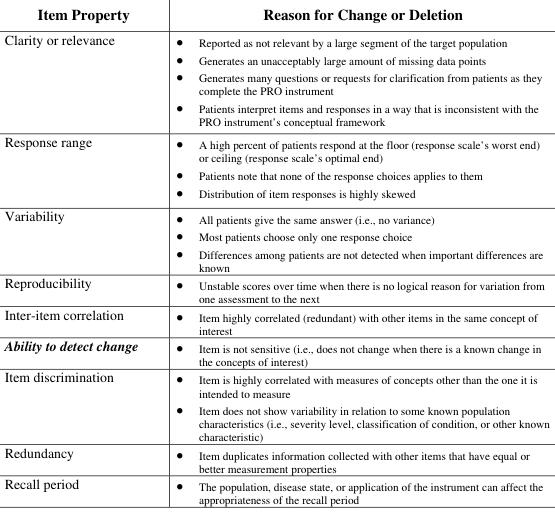table: (3, 3, 548, 506)
table column: (156, 3, 548, 506), (3, 3, 156, 506)
table column header: (3, 3, 548, 26)
table row: (3, 26, 548, 129), (3, 367, 548, 442), (3, 129, 548, 202), (3, 202, 548, 273), (3, 304, 548, 336), (3, 442, 548, 474), (3, 474, 548, 506), (3, 273, 548, 304), (3, 336, 548, 367), (3, 3, 548, 26)
